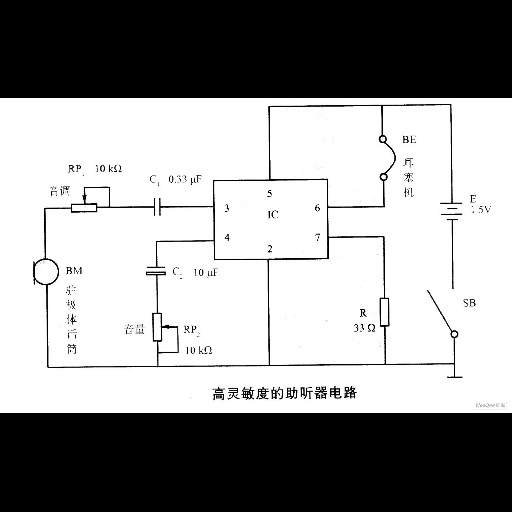battery: (437, 197, 465, 224)
capacitor: (151, 194, 167, 218)
firstresistance: (376, 293, 397, 330)
